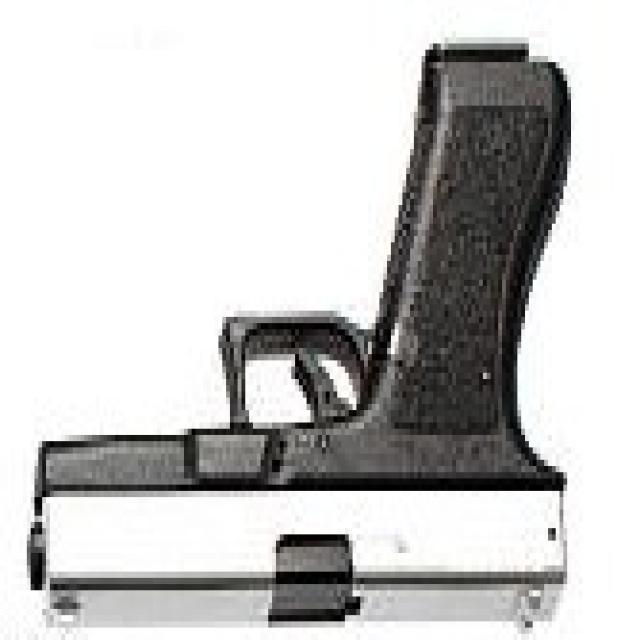pistol: (20, 24, 583, 636)
